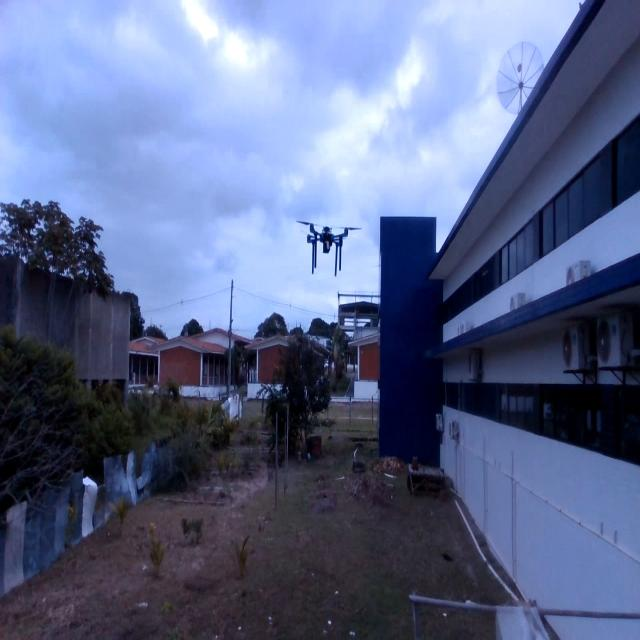-uav-: (293, 207, 365, 283)
